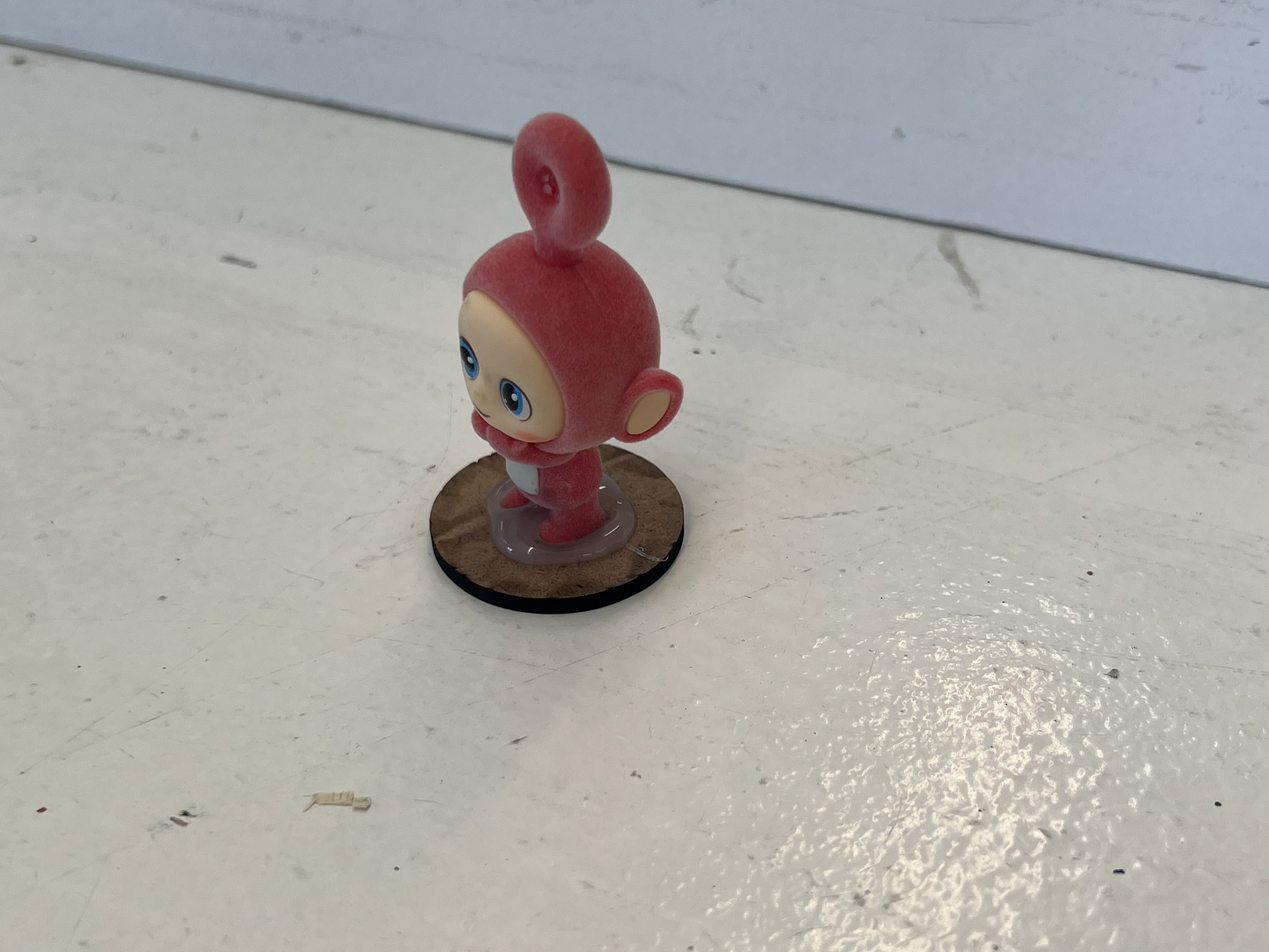teletubby: (459, 113, 683, 544)
